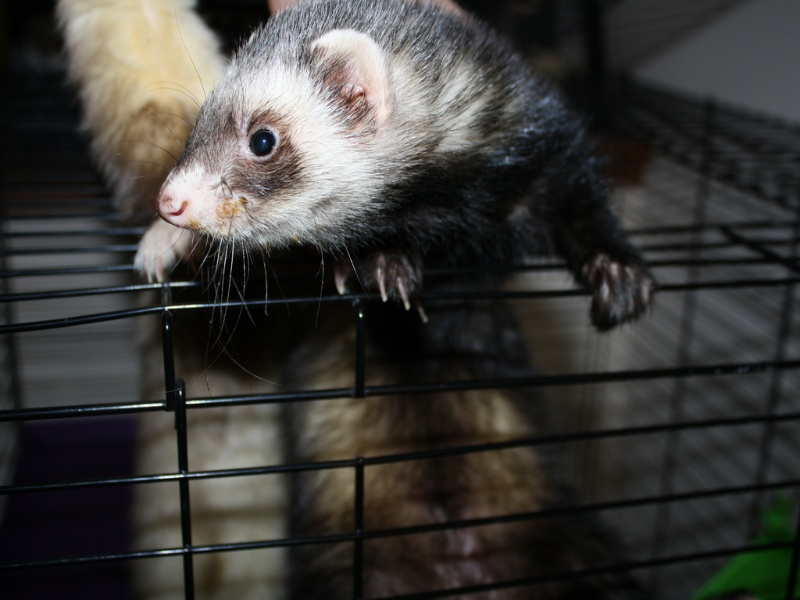minkish: (117, 1, 663, 330)
